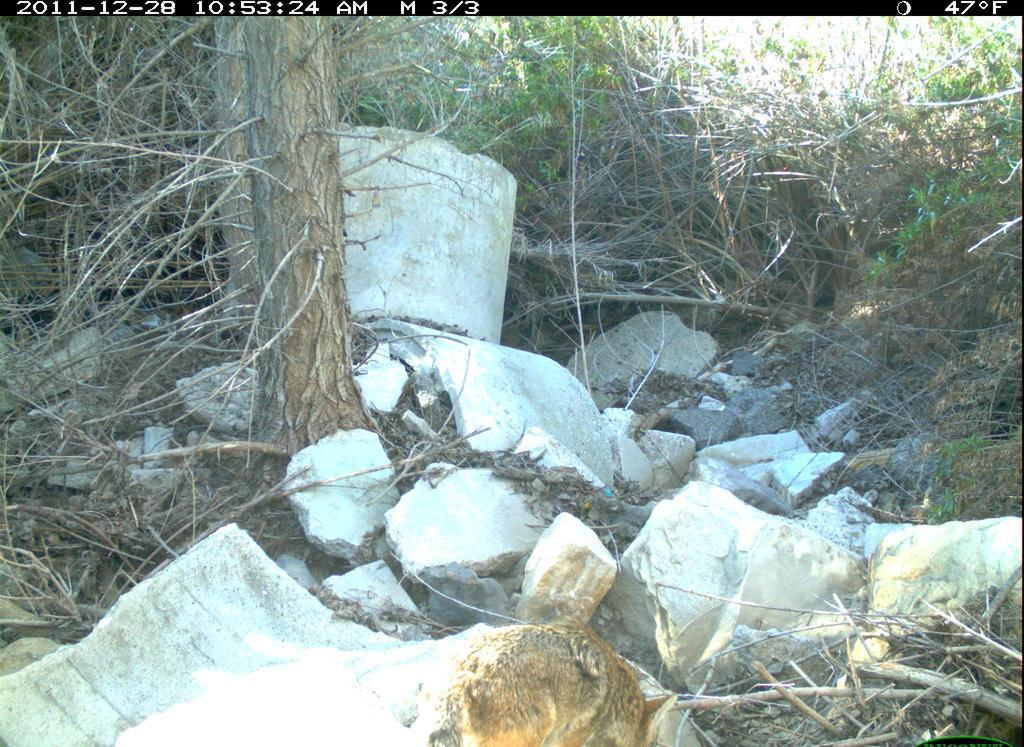coyote: (438, 603, 684, 745)
